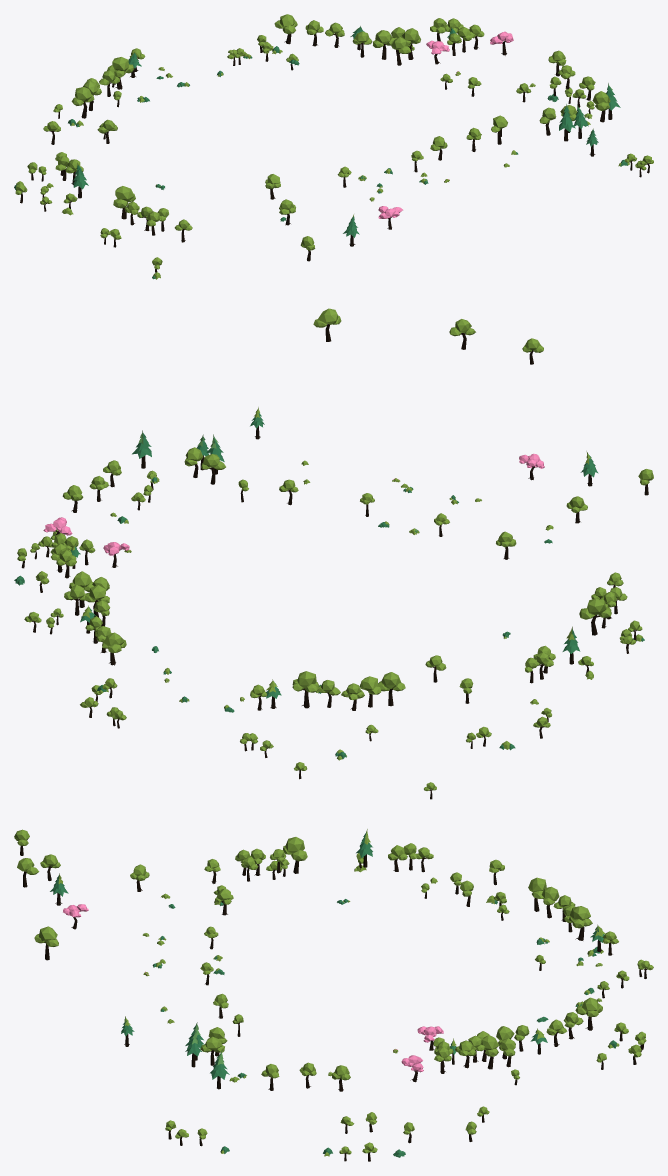
The model's file is ILHA1_10_VEGETATION_1c2e64.fbx.
3 renders of one model, top to bottom at view 1: azimuth 30°, elevation 25°; view 2: azimuth 150°, elevation 25°; view 3: azimuth 270°, elevation 25°, orthographic. The views are drawn at different scales.
Parts seen in each view (by area): view 1: VEG_Shelf__Leaf_Broad, VEG_SO__Leaf_Broad, VEG_Borda_O__Leaf_Broad, VEG_SE__Leaf_Broad, VEG_Leste__Leaf_Broad, VEG_Plato__Leaf_Broad, VEG_Entrada__Leaf_Broad, VEG_Borda_L__Leaf_Broad, VEG_T1_NO__Leaf_Pine, VEG_T1_N__Leaf_Broad, VEG_Shelf__Bark_Dark, VEG_Borda_S__Leaf_Broad (+1 smaller); view 2: VEG_Shelf__Leaf_Broad, VEG_SO__Leaf_Broad, VEG_SE__Leaf_Broad, VEG_Borda_O__Leaf_Broad, VEG_Leste__Leaf_Broad, VEG_Plato__Leaf_Broad, VEG_Entrada__Leaf_Broad, VEG_Shelf__Bark_Dark; view 3: VEG_Shelf__Leaf_Broad, VEG_SO__Leaf_Broad, VEG_Borda_O__Leaf_Broad, VEG_Leste__Leaf_Broad, VEG_Plato__Leaf_Broad, VEG_Entrada__Leaf_Broad, VEG_SE__Leaf_Broad, VEG_Borda_L__Leaf_Broad, VEG_Shelf__Bark_Dark, VEG_Borda_S__Leaf_Broad, VEG_T1_N__Leaf_Broad, VEG_T1_NO__Leaf_Broad (+2 smaller).
Part boxes in pixels (x1,y1,x2,y2): VEG_Shelf__Leaf_Broad: [15, 35, 653, 279]; VEG_SO__Leaf_Broad: [352, 26, 472, 53]; VEG_Borda_O__Leaf_Broad: [430, 18, 595, 90]; VEG_SE__Leaf_Broad: [43, 70, 119, 133]; VEG_Leste__Leaf_Broad: [55, 152, 168, 226]; VEG_Plato__Leaf_Broad: [300, 91, 610, 250]; VEG_Entrada__Leaf_Broad: [107, 14, 297, 77]; VEG_Borda_L__Leaf_Broad: [65, 159, 192, 230]; VEG_T1_NO__Leaf_Pine: [559, 85, 620, 132]; VEG_T1_N__Leaf_Broad: [265, 127, 481, 188]; VEG_Shelf__Bark_Dark: [20, 46, 649, 272]; VEG_Borda_S__Leaf_Broad: [86, 20, 344, 88]; VEG_Shelf__Leaf_Broad: [17, 470, 642, 790]; VEG_SO__Leaf_Broad: [64, 536, 110, 617]; VEG_SE__Leaf_Broad: [318, 655, 473, 695]; VEG_Borda_O__Leaf_Broad: [50, 460, 121, 566]; VEG_Leste__Leaf_Broad: [525, 587, 627, 672]; VEG_Plato__Leaf_Broad: [313, 308, 653, 485]; VEG_Entrada__Leaf_Broad: [102, 632, 319, 698]; VEG_Shelf__Bark_Dark: [21, 479, 636, 799]; VEG_Shelf__Leaf_Broad: [165, 853, 653, 1156]; VEG_SO__Leaf_Broad: [433, 1025, 544, 1056]; VEG_Borda_O__Leaf_Broad: [261, 1035, 484, 1080]; VEG_Leste__Leaf_Broad: [235, 829, 433, 869]; VEG_Plato__Leaf_Broad: [14, 829, 60, 946]; VEG_Entrada__Leaf_Broad: [568, 906, 618, 1017]; VEG_SE__Leaf_Broad: [460, 859, 575, 922]; VEG_Borda_L__Leaf_Broad: [204, 845, 407, 871]; VEG_Shelf__Bark_Dark: [168, 863, 646, 1161]; VEG_Borda_S__Leaf_Broad: [546, 895, 583, 1035]; VEG_T1_N__Leaf_Broad: [200, 888, 233, 1008]; VEG_T1_NO__Leaf_Broad: [200, 1014, 243, 1052].
Bounding box in the file's own units: 338 × 129 × 333.
Materials: 7 (1 with a texture image).
